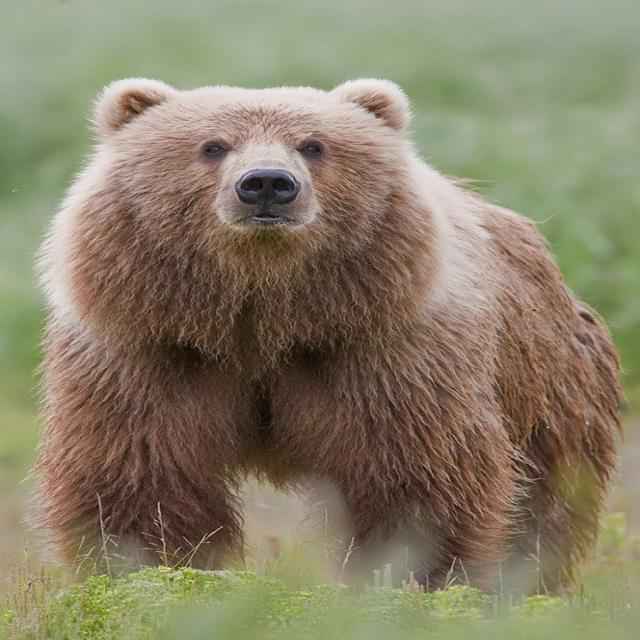bear: (36, 78, 622, 591)
